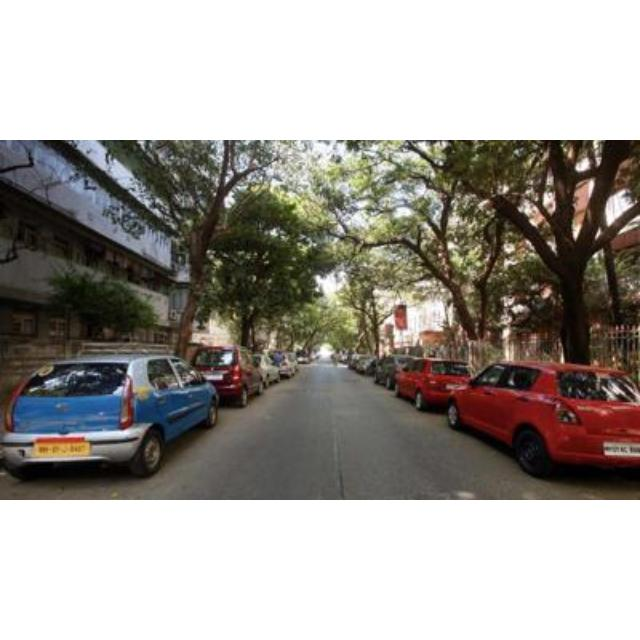car: (0, 353, 222, 481), (445, 360, 639, 478)
plate: (604, 440, 640, 460), (36, 444, 90, 456)
